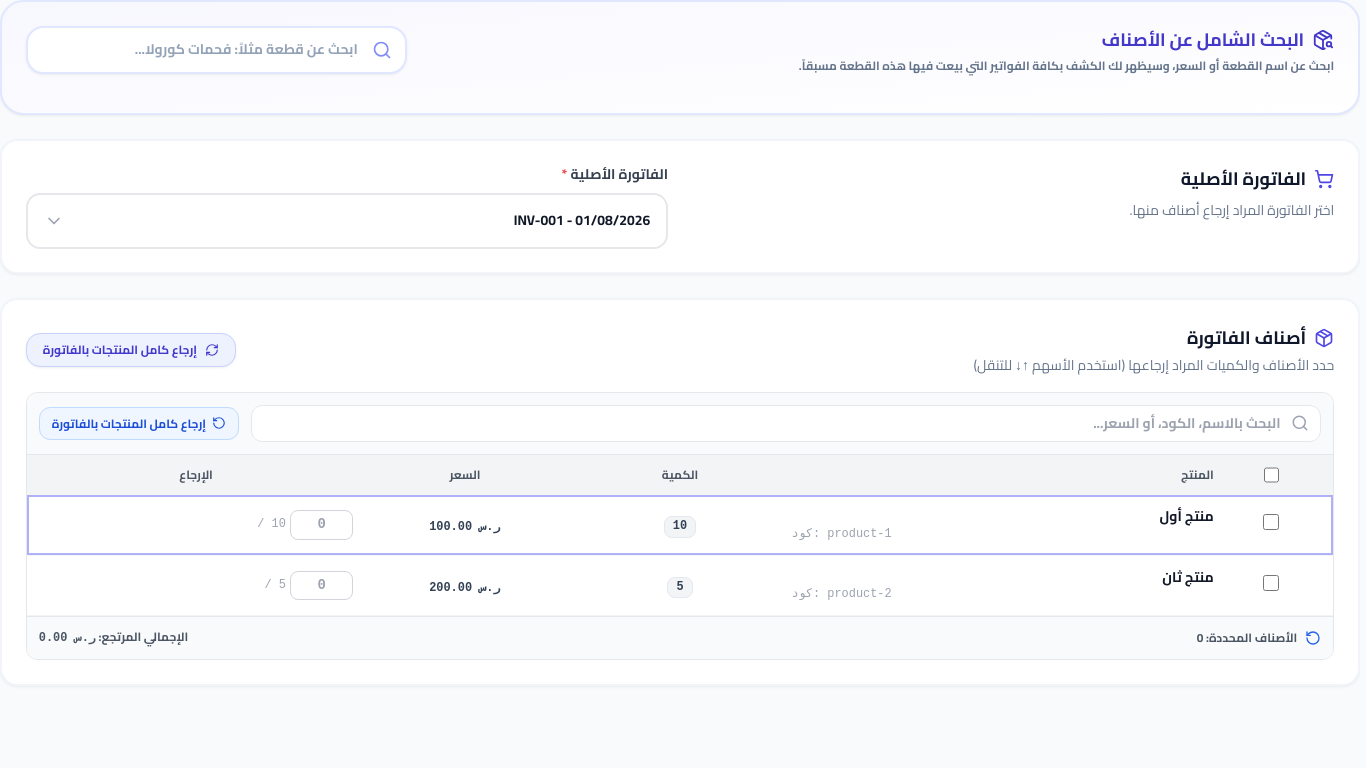
ReturnItemsStep › كتابة كمية لصنف غير محدد تضيفه بالكمية المدخلة وليس 1
Type "7" into the field with test id "return-quantity-input".
click(322, 525); type("7")  # box [290, 510, 353, 540]
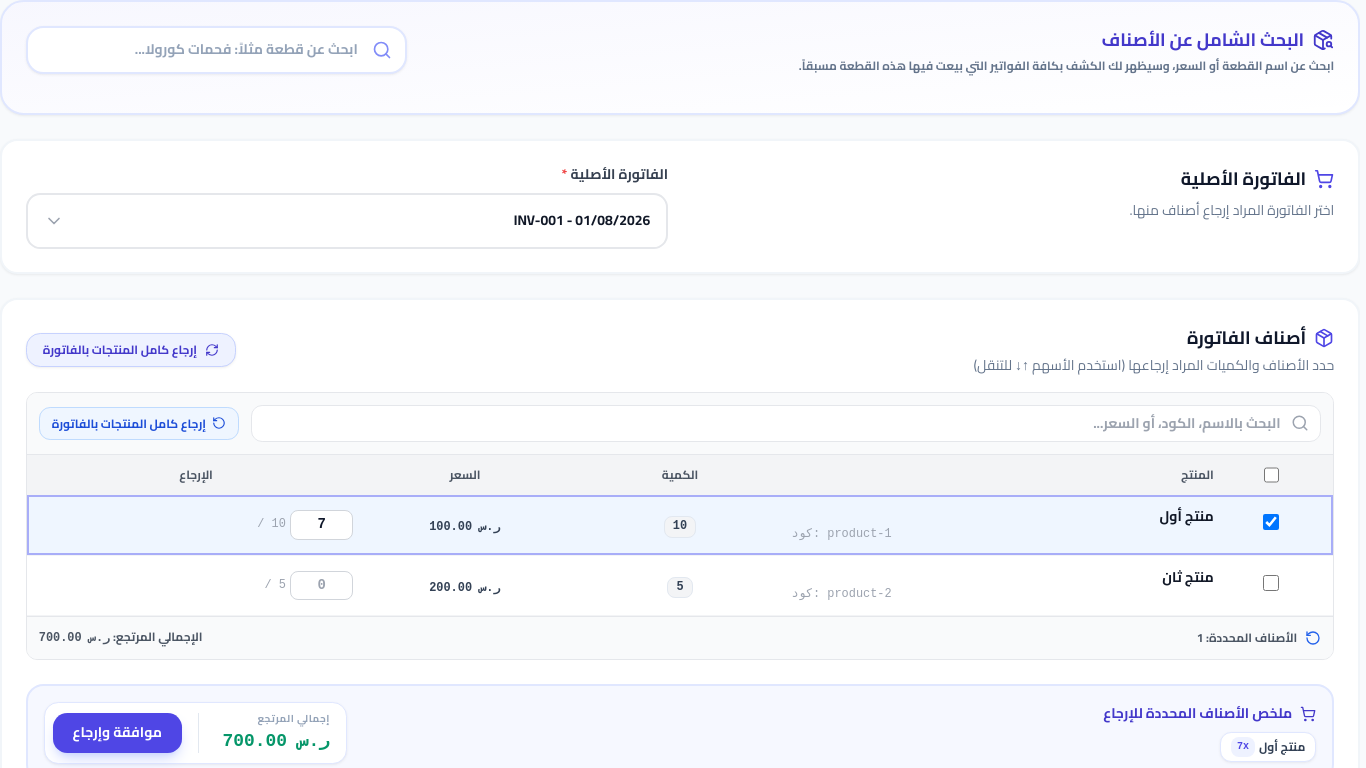
Expected: the text "منتج أول" in the row of "100.00 ر.س" is shown, [1160, 503, 1214, 529]
Expected: the text "7x" is shown, [1231, 737, 1255, 757]
